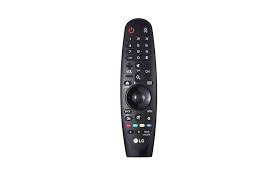remote control: (113, 19, 166, 161)
